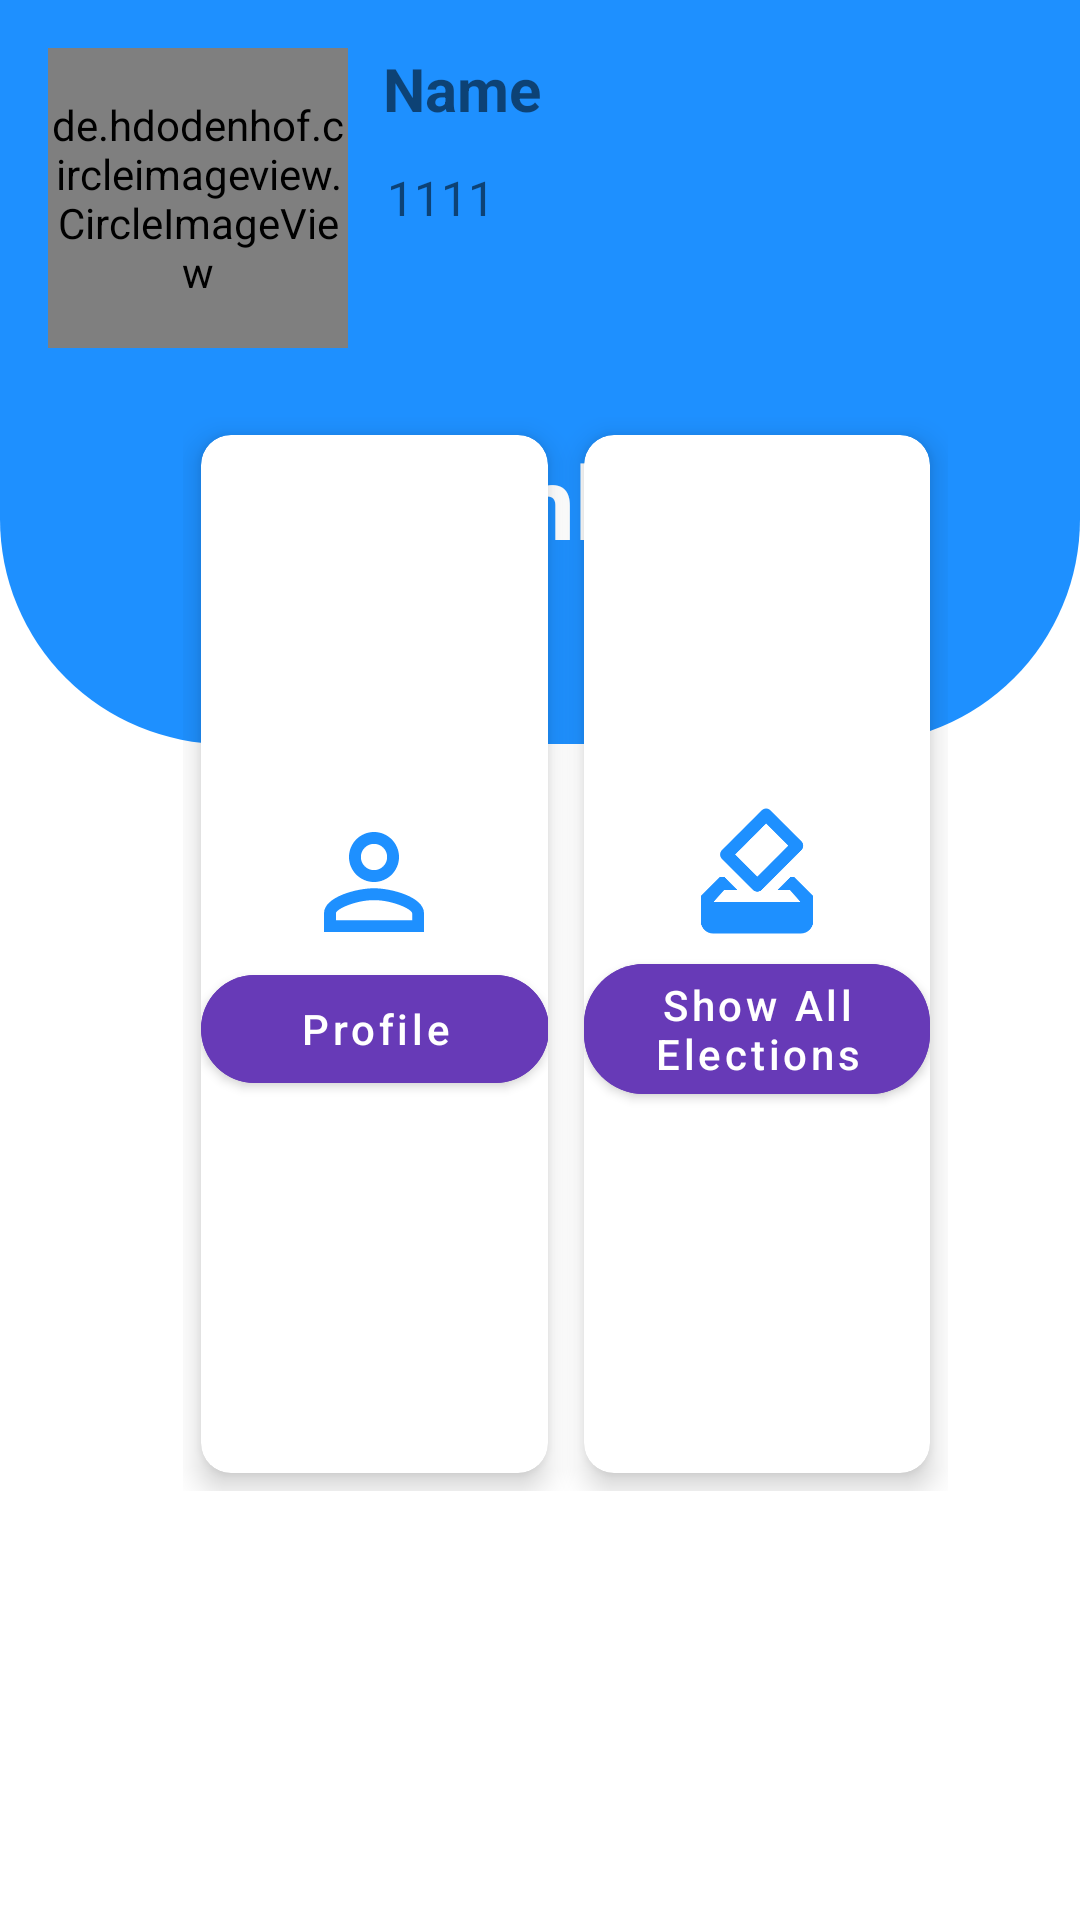

Named icons in this screenshot (1080w x 1920h) and their centers, [x,y]:
how to vote: [757,871]
person: [374,882]
